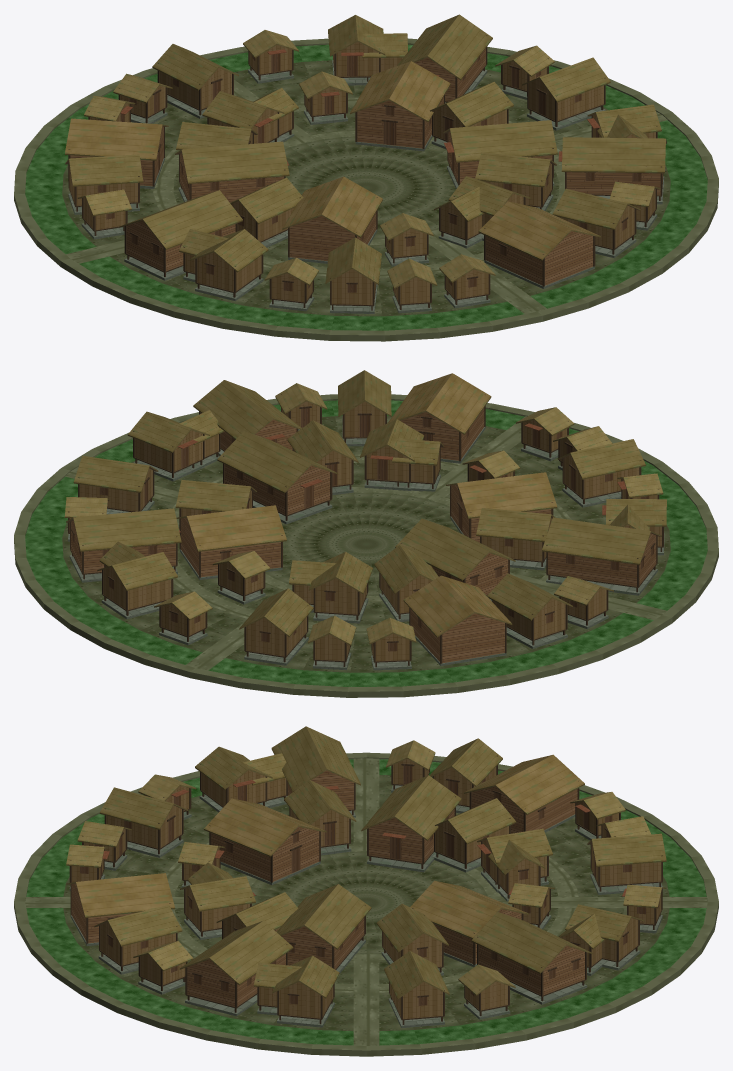
The model's file is village_large_lod0.glb.
3 views of the same model, one above another, from view 1: azimuth 30°, elevation 25°; view 2: azimuth 150°, elevation 25°; view 3: azimuth 270°, elevation 25° (orthographic).
Parts seen in each view (by area): view 1: ae_jungle_village_large_lod0; view 2: ae_jungle_village_large_lod0; view 3: ae_jungle_village_large_lod0.
Part boxes in pixels (left/top/right/bottom): ae_jungle_village_large_lod0: left=14, top=14, right=718, bottom=341; ae_jungle_village_large_lod0: left=14, top=370, right=718, bottom=697; ae_jungle_village_large_lod0: left=14, top=726, right=718, bottom=1056.
Size of the model in its own units: 1.9 by 0.1715 by 1.9.
1 material, 1 textured.
